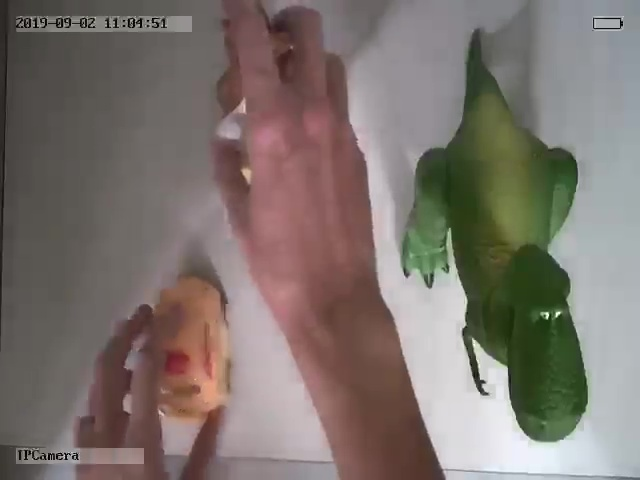rex: (400, 58, 590, 443)
